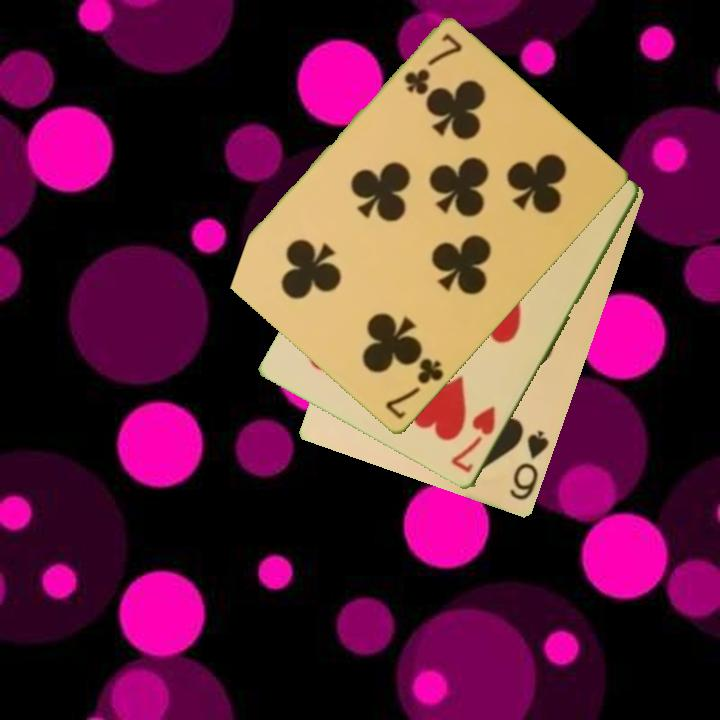6s: (506, 427, 553, 504)
7c: (400, 30, 466, 99), (382, 355, 447, 423)
7h: (447, 403, 499, 477)
